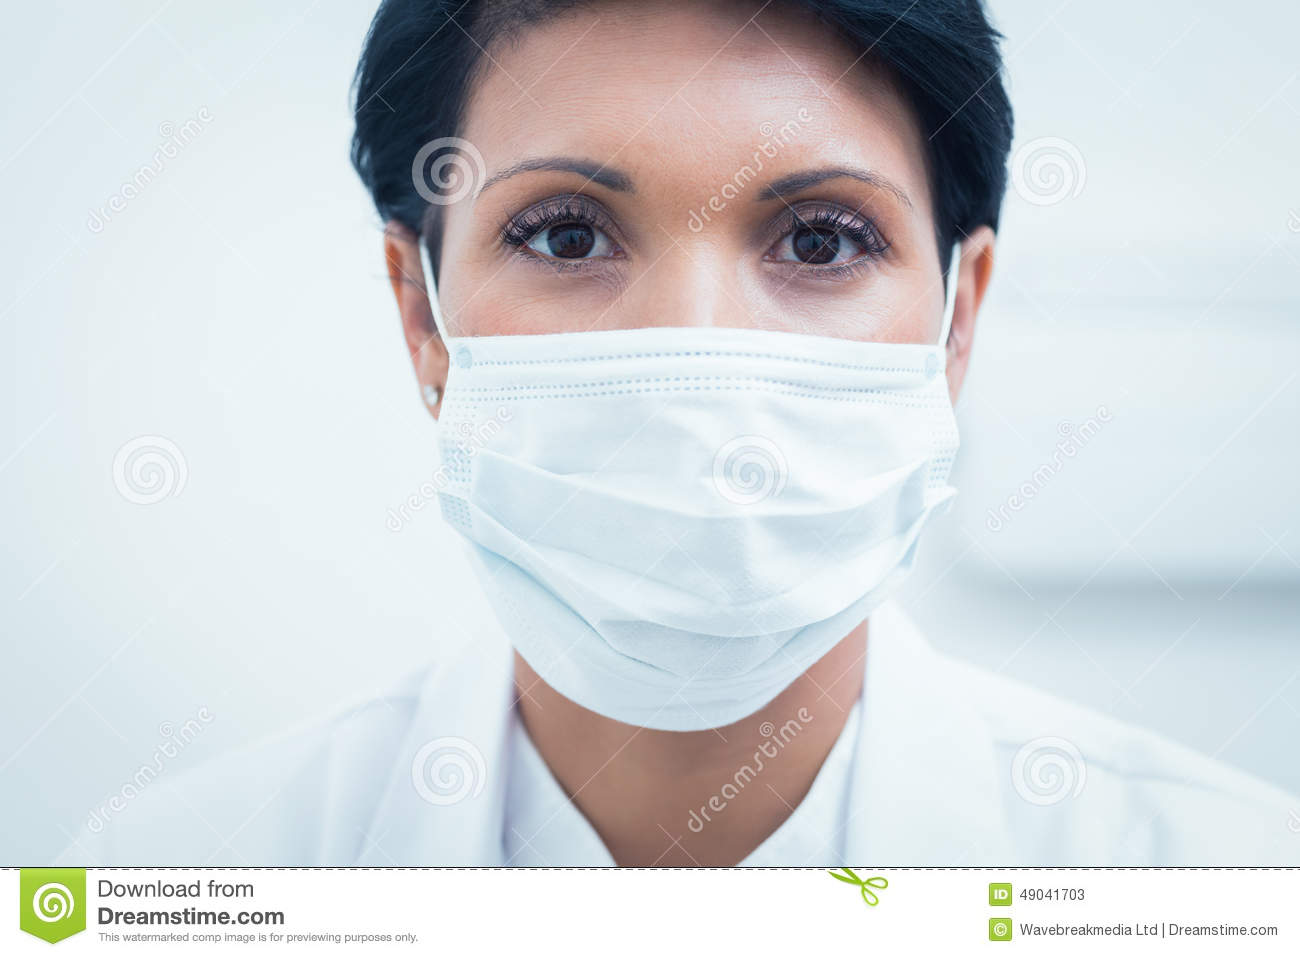mask: (416, 323, 972, 732)
